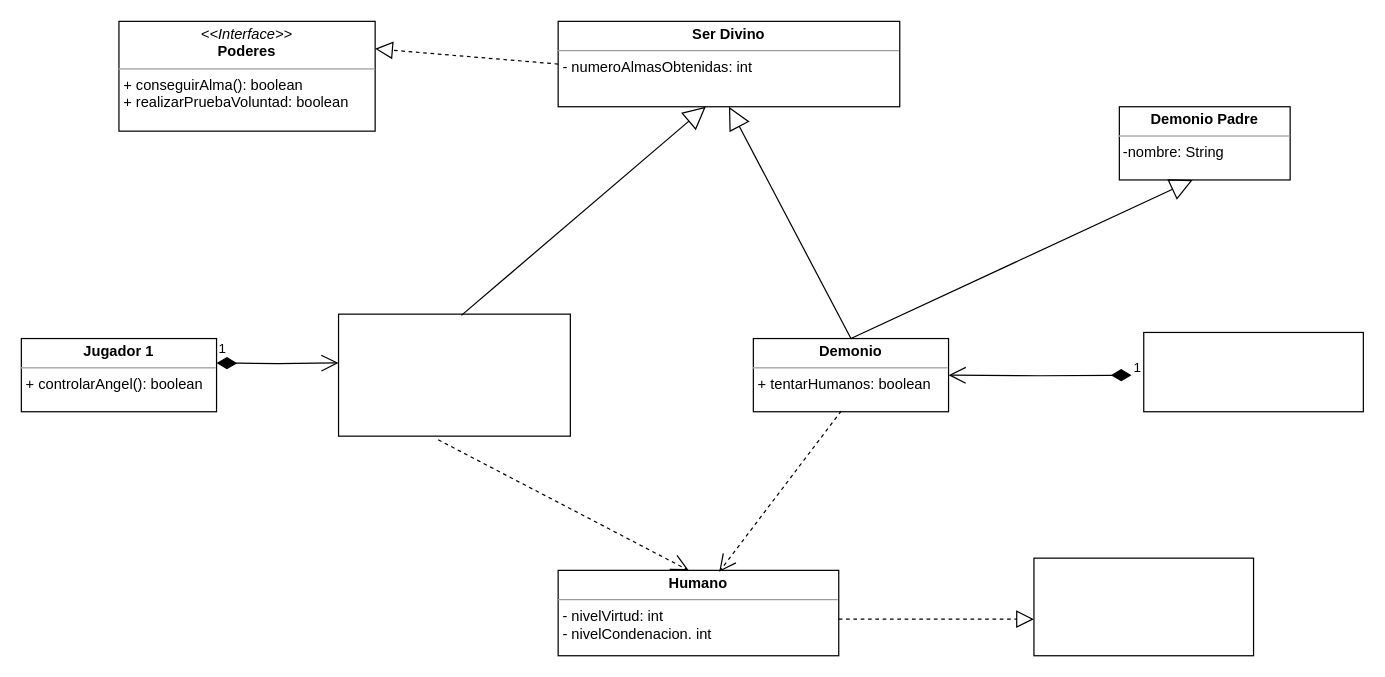
This 1385x677 diagram has some shape labels left out. The shapes that lost their labels are listed below. From the top down, each one's centre as x and y in pixels, then its label:
[453,374]: Angel - nombre: String - nivelBondan: int + probarFeHumanos(): boolean
[1253,371]: Jugador 2 + controlarDemonio: boolean
[1143,606]: <<Interface>> Alma + santificacionAlma: boolean + condenacionAlma: boolean
